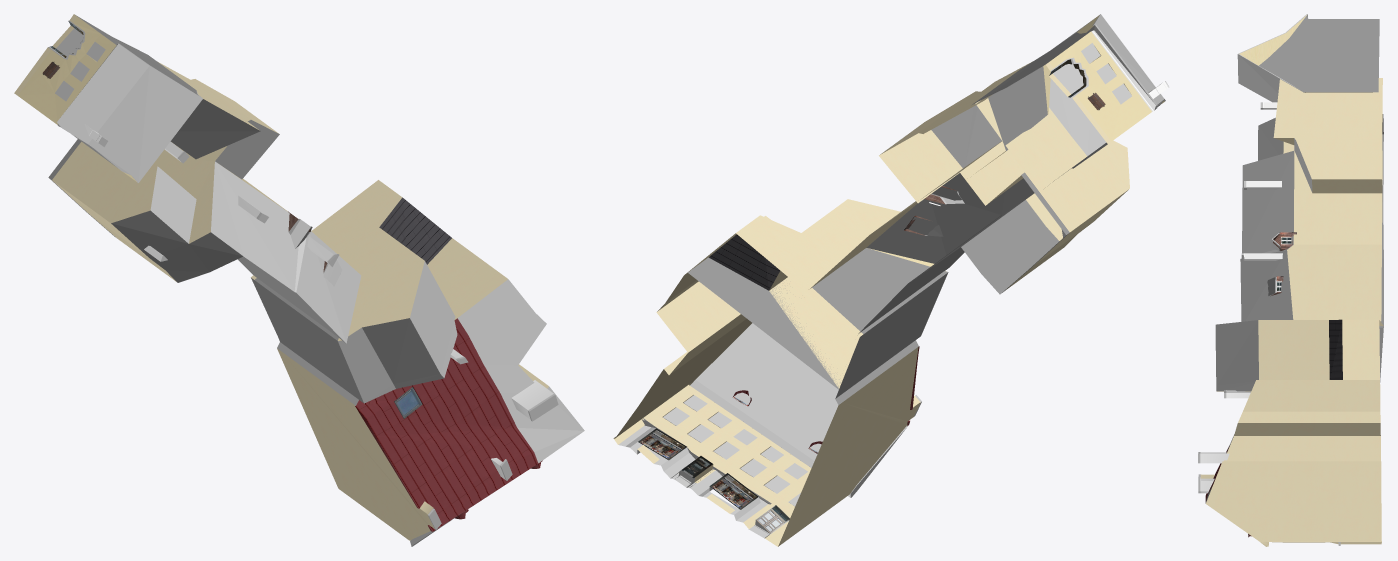
The model's file is Pikk_9-origo.obj.
The picture shows the model from 3 angles, left to right: view 1: azimuth 30°, elevation 25°; view 2: azimuth 150°, elevation 25°; view 3: azimuth 270°, elevation 25°; orthographic projection. The views are drawn at different scales.
Parts seen in each view (by area): view 1: Pikk_9; view 2: Pikk_9; view 3: Pikk_9.
Boxes of the visible parts, bbox=[...] form: Pikk_9: bbox=[14, 14, 584, 546]; Pikk_9: bbox=[613, 14, 1169, 546]; Pikk_9: bbox=[1198, 14, 1383, 546].
Size of the model in its own units: 48 by 51.5 by 20.42.
